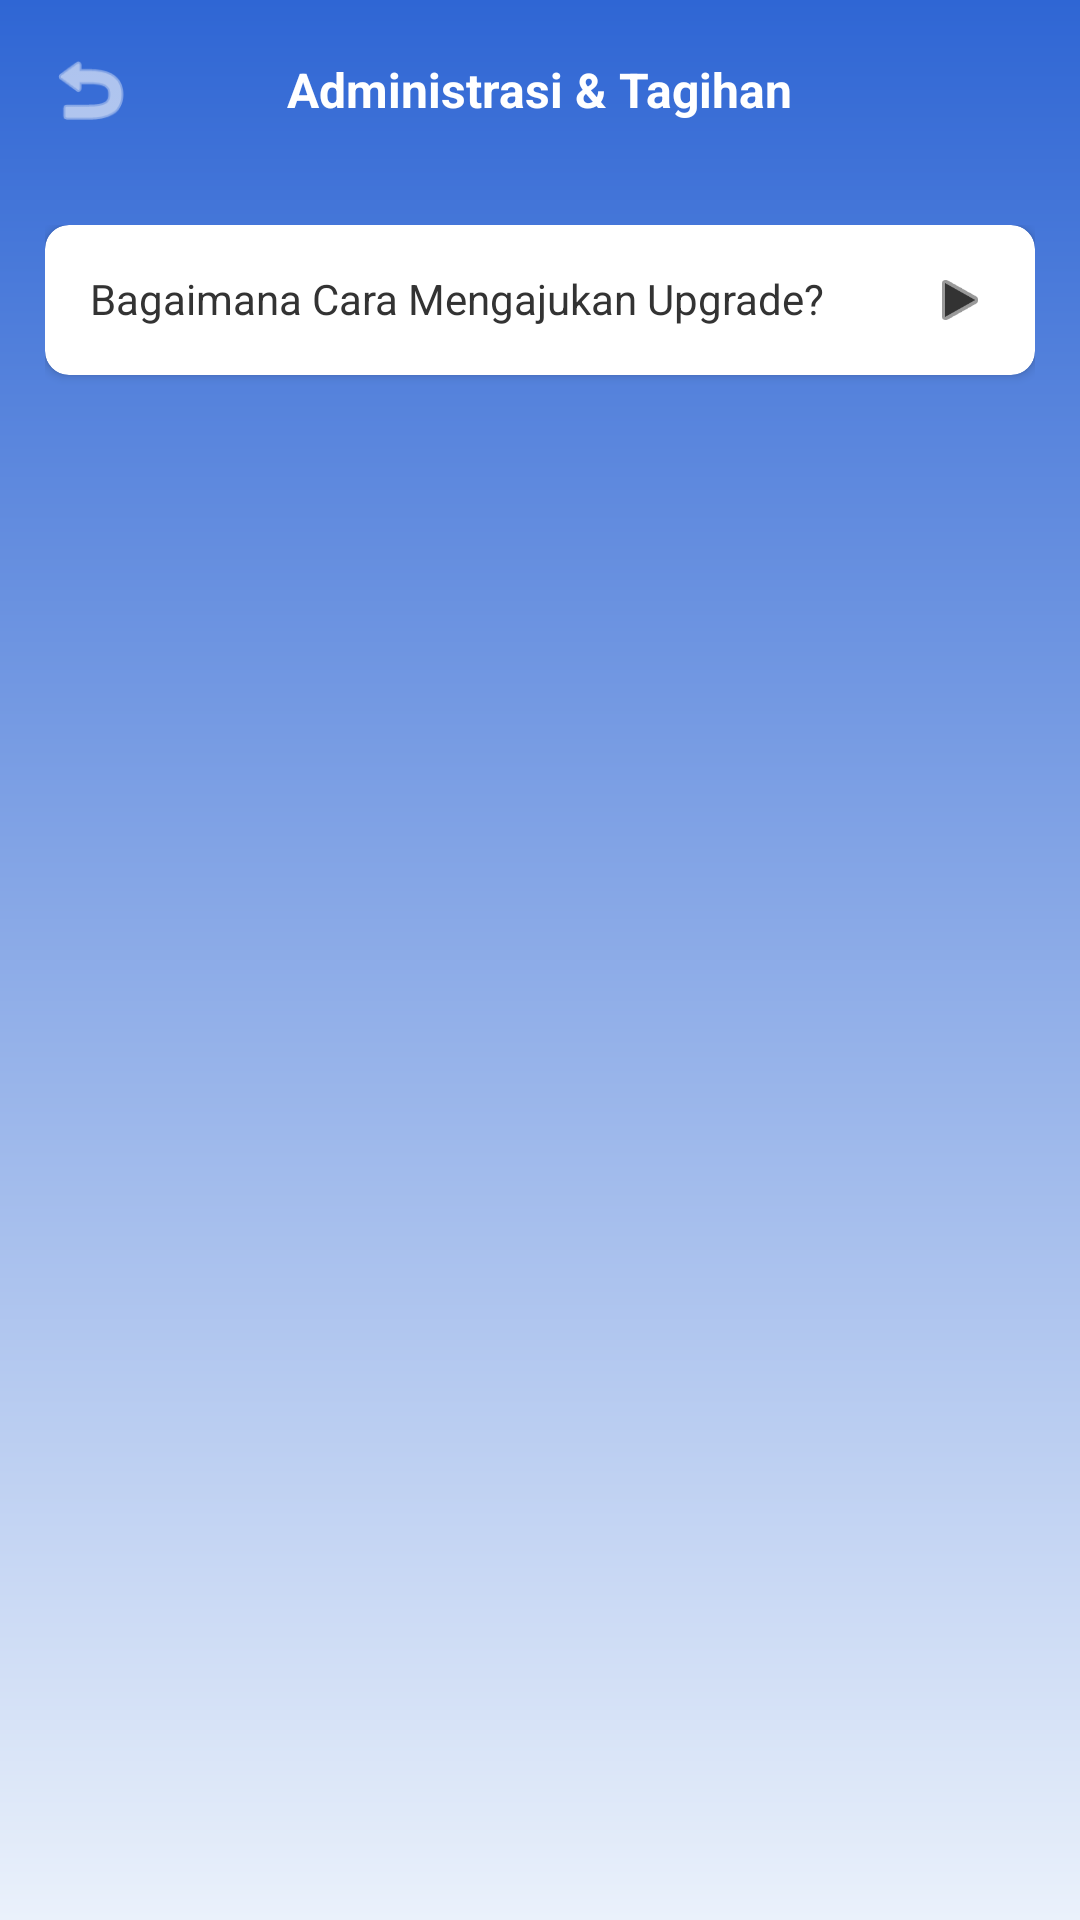

Icon click points for this 1080 x 1920 phone screenshot, format [x,y]:
play: [960,300]
revert: [91,90]
